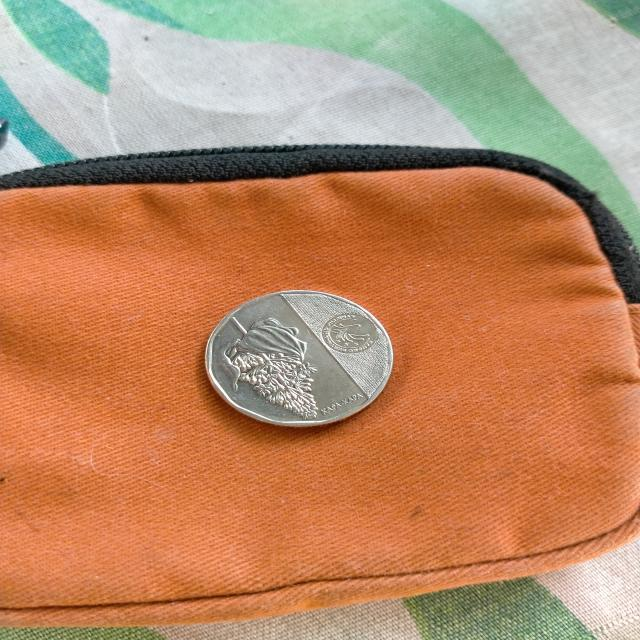10_New_Back: (219, 307, 321, 423)
